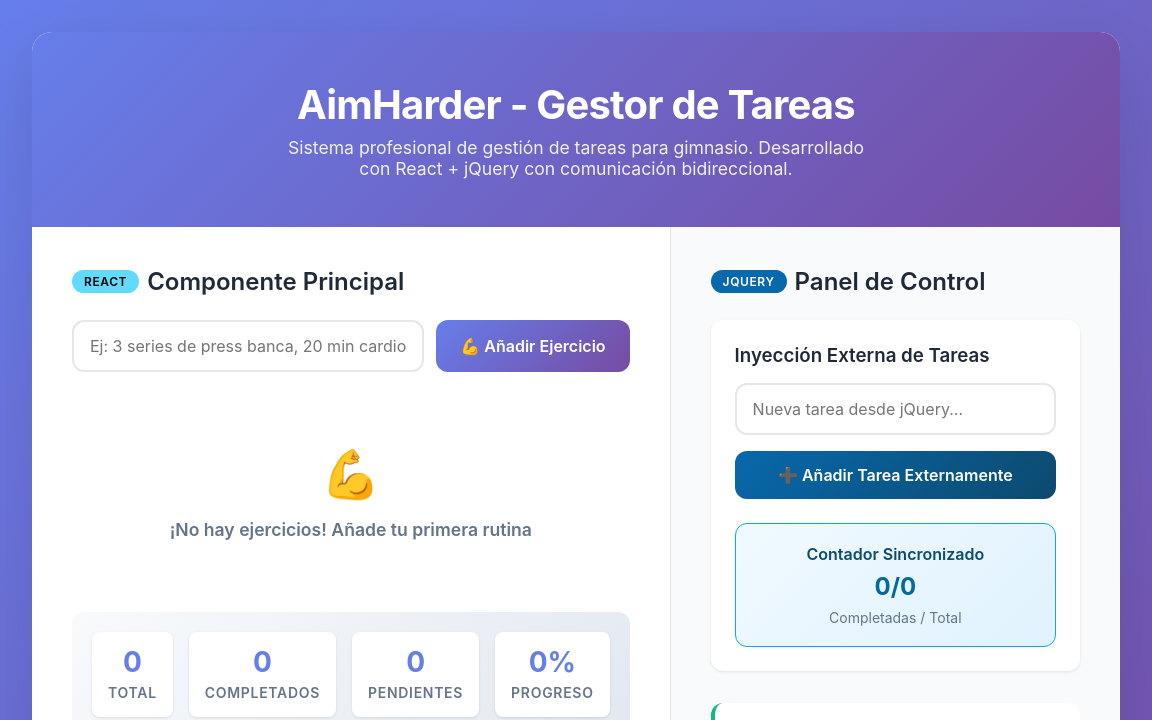
Scenario: Todo App › deletes a task
// Add via React form using the correct placeholder
Type "To Delete" into the field with placeholder "Ej: 3 series de press banca, 20 min cardio...".
click(248, 346); type("To Delete")  # box [72,320,424,372]
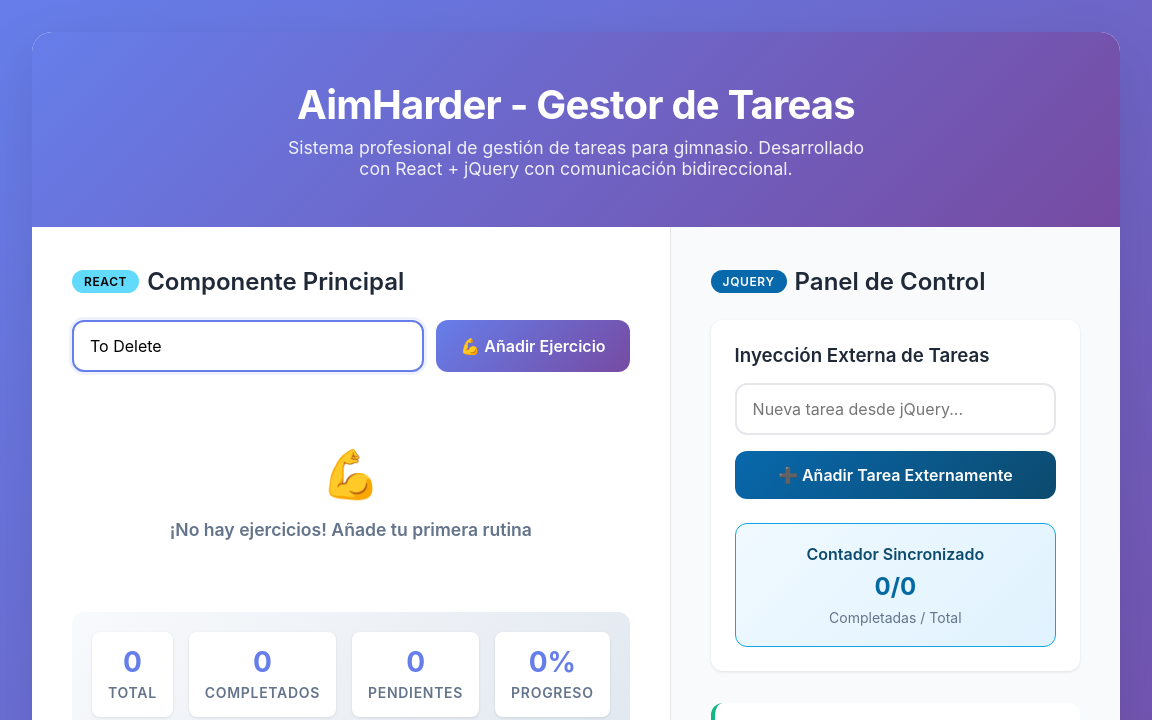
Click the button "💪 Añadir Ejercicio".
click(533, 346)  # box [436,320,629,372]
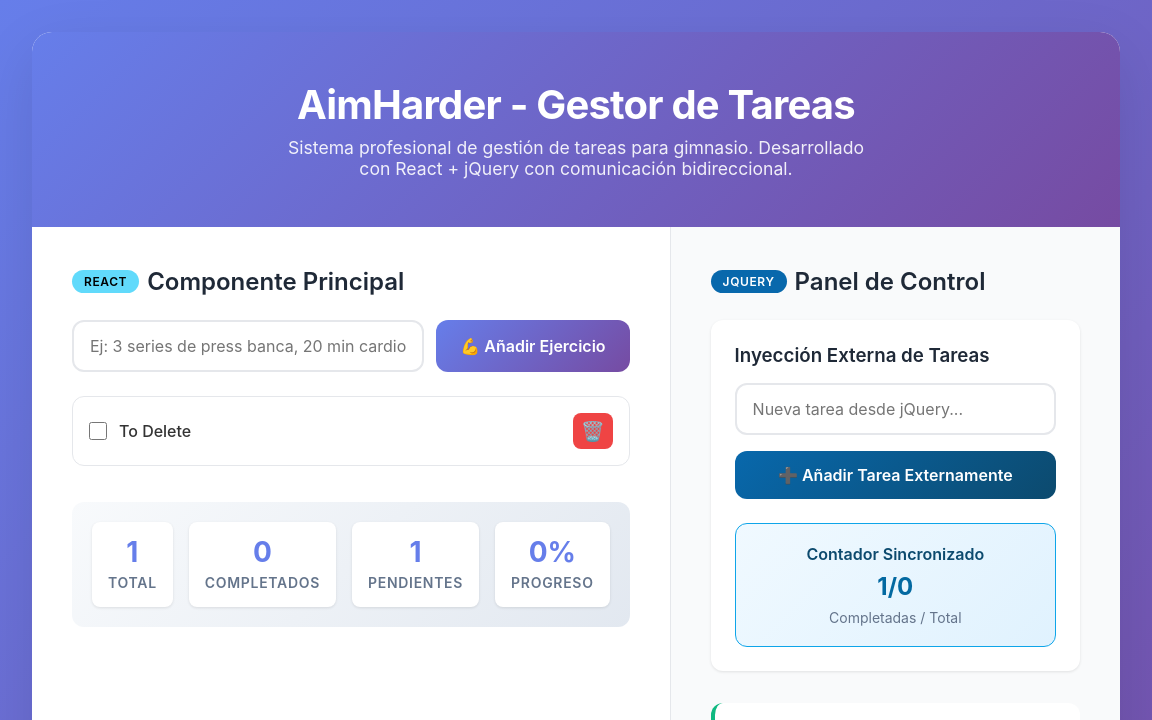
// Delete the task - updated selector to match improved accessibility
Click the button "🗑️".
click(593, 431)  # box [573,413,613,449]
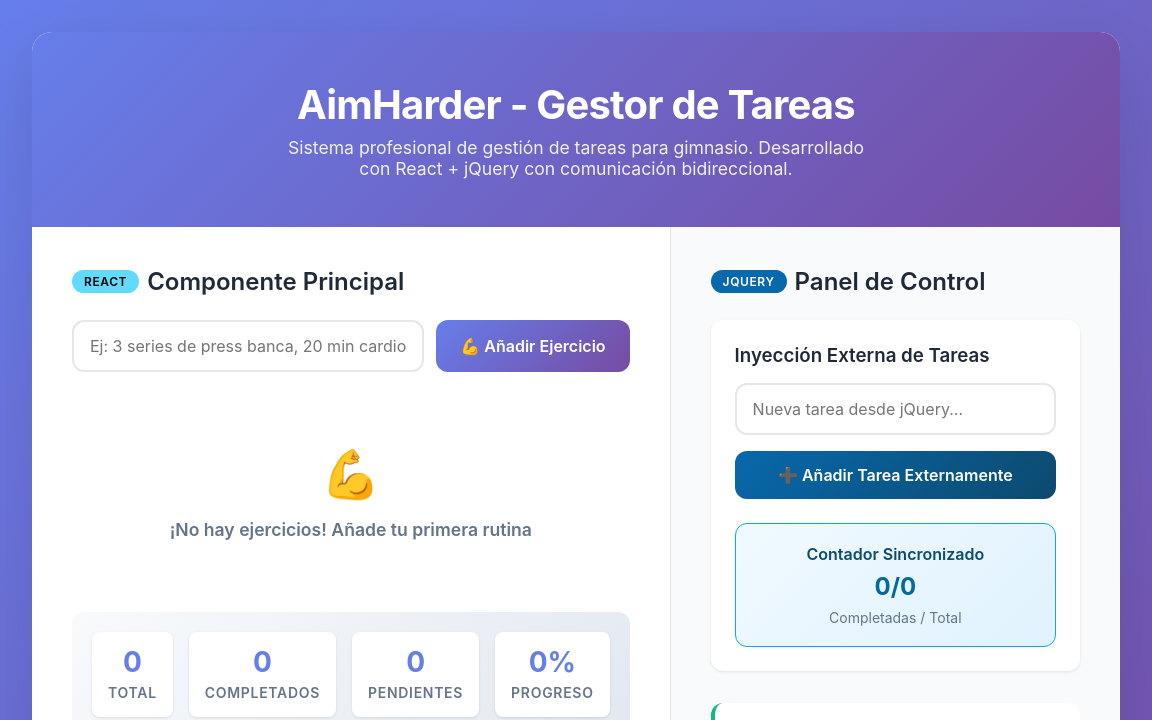
Result: the text with id "task-count" reads "0/0" at [874,572,916,601]
Result: the text "¡No hay ejercicios! Añade tu primera rutina" is shown at [170,519,532,540]
